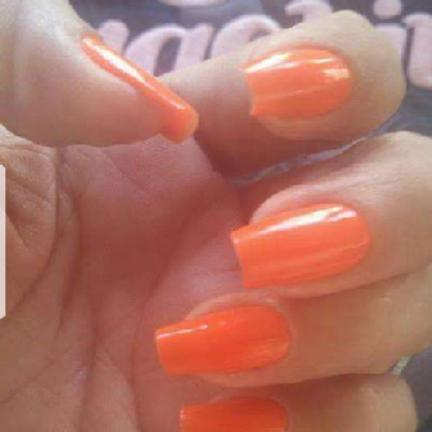Nail: (82, 33, 198, 142), (230, 202, 370, 289), (154, 305, 291, 375), (240, 46, 353, 117), (181, 397, 288, 432)
